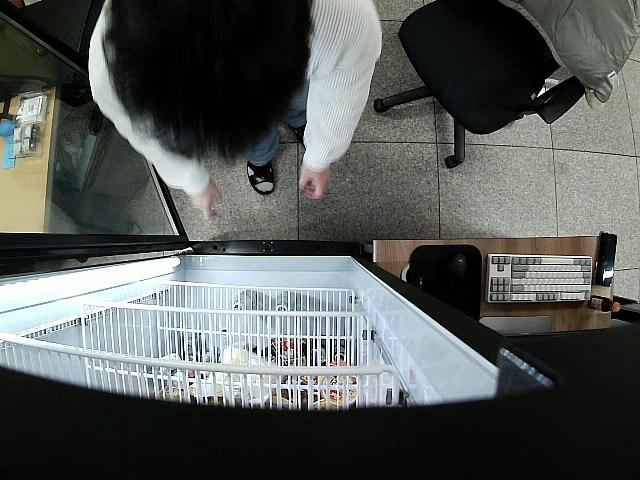00_hand: (190, 180, 224, 221), (297, 168, 332, 201)
